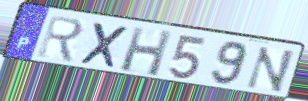5: (167, 33, 210, 81)
9: (210, 41, 249, 87)
H: (118, 25, 174, 79)
N: (243, 45, 297, 94)
R: (36, 13, 86, 65)
X: (77, 20, 131, 71)
